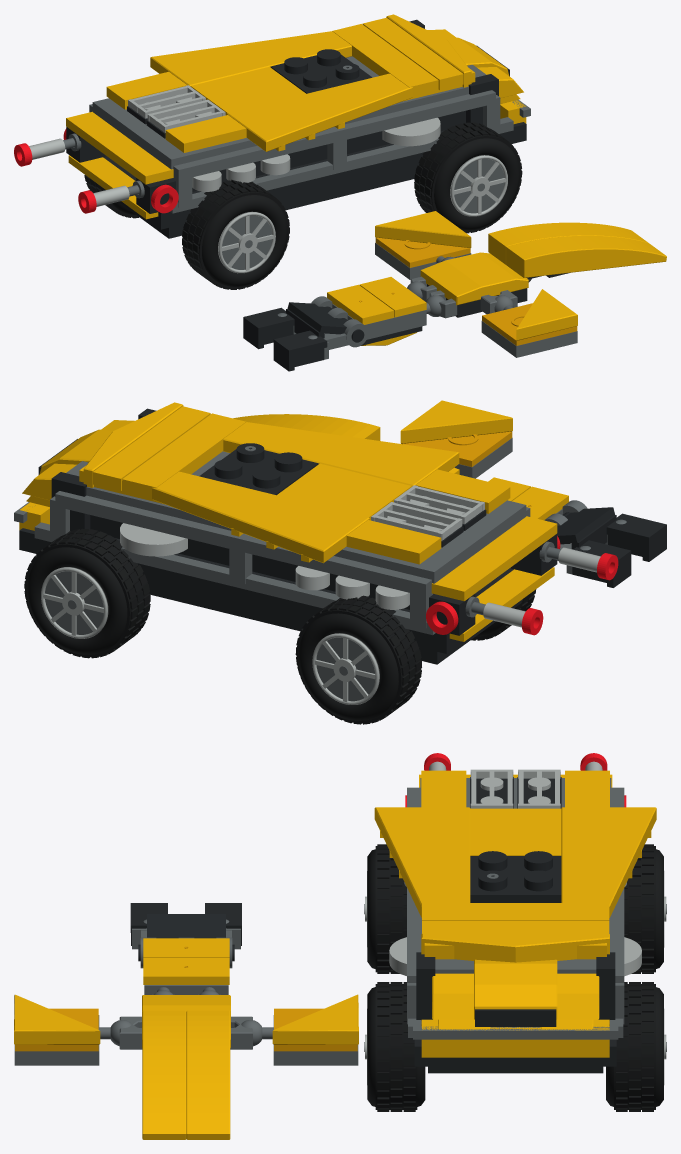
File: detached-resting.glb
3 views of the same model, one above another, from view 1: azimuth 30°, elevation 25°; view 2: azimuth 150°, elevation 25°; view 3: azimuth 270°, elevation 25° (orthographic). The views are drawn at different scales.
Parts seen in each view (by area): view 1: Fixed trapezoid roof panel (×2), Smooth curved beak tile (×2), Rounded tire sidewall (×2), Front roof cross tile (×2), Upper side rail, Baked tread blocks (×2), Deck supporting plate, Brick (×4), Raised triangular wing face (×2), Rounded chest surface, Lower chassis, Rear yellow deck rail (×2) (+21 smaller); view 2: Fixed trapezoid roof panel (×2), Rounded tire sidewall (×2), Brick (×6), Front roof cross tile (×2), Upper side rail, Baked tread blocks (×2), Deck supporting plate, Lower chassis, Rear yellow deck rail (×2), Rear upper bumper, Central roof tile, Lower side rail (+24 smaller); view 3: Fixed trapezoid roof panel (×2), Baked tread blocks (×4), Smooth curved beak tile (×2), Front roof cross tile (×2), Raised triangular wing face (×2), Rubber tire (×4), Pointed front roof lip, Central roof tile, Front yellow fascia, Individual lower torso tile (×2), Raised centre nose, Split front hood (×2) (+17 smaller).
Part boxes in pixels (x1,y1,x2,y2): Fixed trapezoid roof panel (×2): [150, 31, 412, 151]; Smooth curved beak tile (×2): [488, 222, 666, 277]; Rounded tire sidewall (×2): [202, 138, 520, 286]; Front roof cross tile (×2): [332, 17, 463, 96]; Upper side rail: [173, 90, 495, 180]; Baked tread blocks (×2): [182, 122, 522, 289]; Deck supporting plate: [92, 56, 486, 169]; Brick (×4): [192, 74, 498, 191]; Raised triangular wing face (×2): [375, 211, 577, 340]; Rounded chest surface: [420, 252, 528, 305]; Lower chassis: [103, 122, 526, 229]; Rear yellow deck rail (×2): [106, 71, 246, 152]; Fixed trapezoid roof panel (×2): [152, 422, 459, 563]; Rounded tire sidewall (×2): [26, 547, 398, 720]; Brick (×6): [51, 472, 409, 609]; Front roof cross tile (×2): [93, 406, 245, 498]; Upper side rail: [55, 491, 431, 596]; Baked tread blocks (×2): [24, 528, 421, 724]; Deck supporting plate: [66, 451, 526, 583]; Lower chassis: [19, 528, 513, 653]; Rear yellow deck rail (×2): [346, 469, 510, 564]; Rear upper bumper: [431, 516, 557, 601]; Central roof tile: [277, 463, 411, 520]; Lower side rail: [34, 522, 435, 635]; Fixed trapezoid roof panel (×2): [374, 807, 656, 917]; Baked tread blocks (×4): [377, 844, 653, 1111]; Smooth curved beak tile (×2): [142, 1010, 230, 1139]; Front roof cross tile (×2): [422, 903, 609, 933]; Raised triangular wing face (×2): [14, 994, 358, 1044]; Rubber tire (×4): [375, 846, 655, 1109]; Pointed front roof lip: [421, 933, 609, 962]; Central roof tile: [470, 808, 561, 855]; Front yellow fascia: [421, 1019, 609, 1057]; Individual lower torso tile (×2): [143, 938, 229, 984]; Raised centre nose: [474, 959, 557, 1019]; Split front hood (×2): [432, 973, 599, 1019].
Size of the model in its own units: 8.22 by 2.57 by 8.27.
